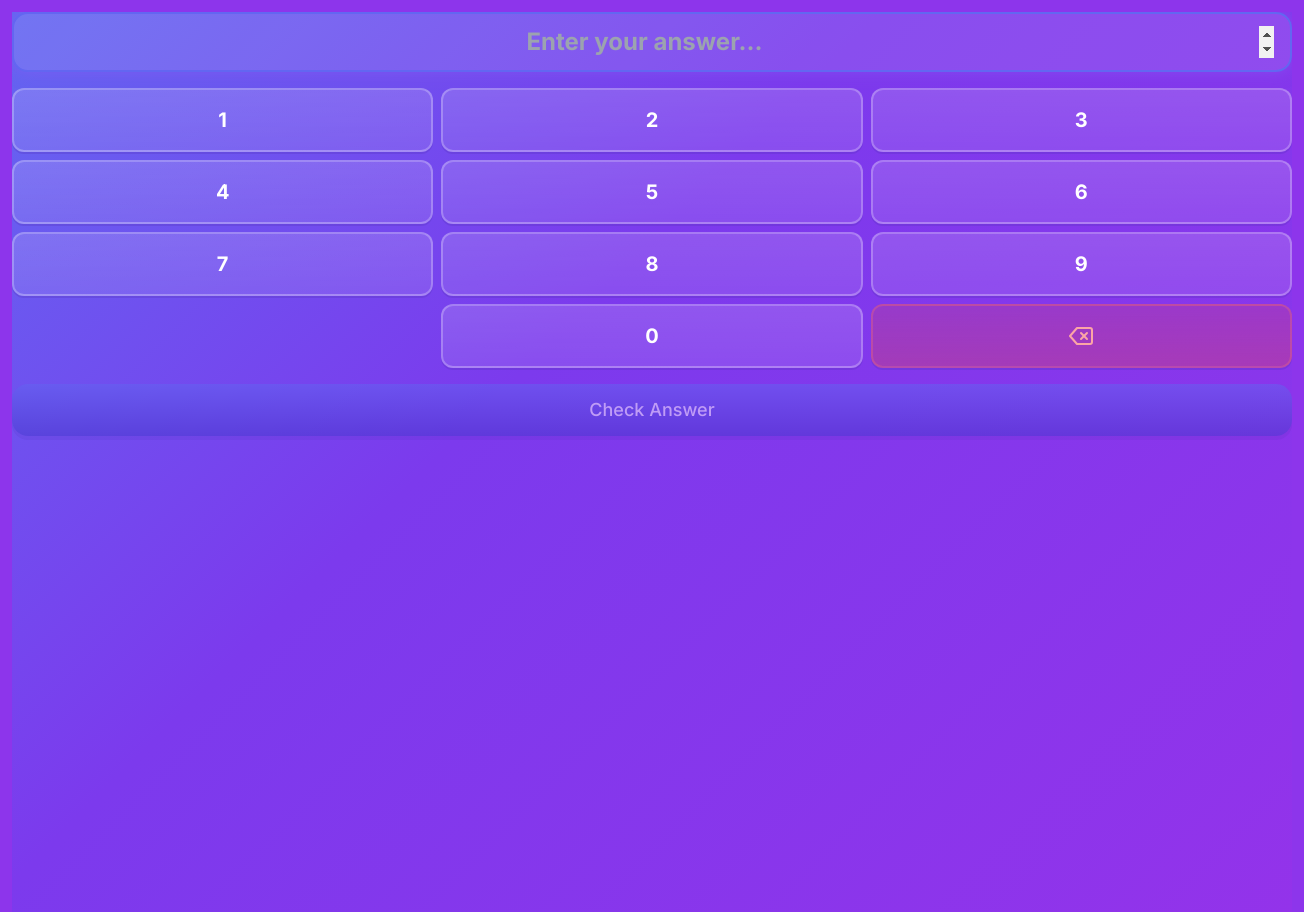
Scenario: AnswerInput › number pad interaction › should append number when pad button is clicked
Click the button "1": coordinates (223, 120) [12, 88, 433, 152]
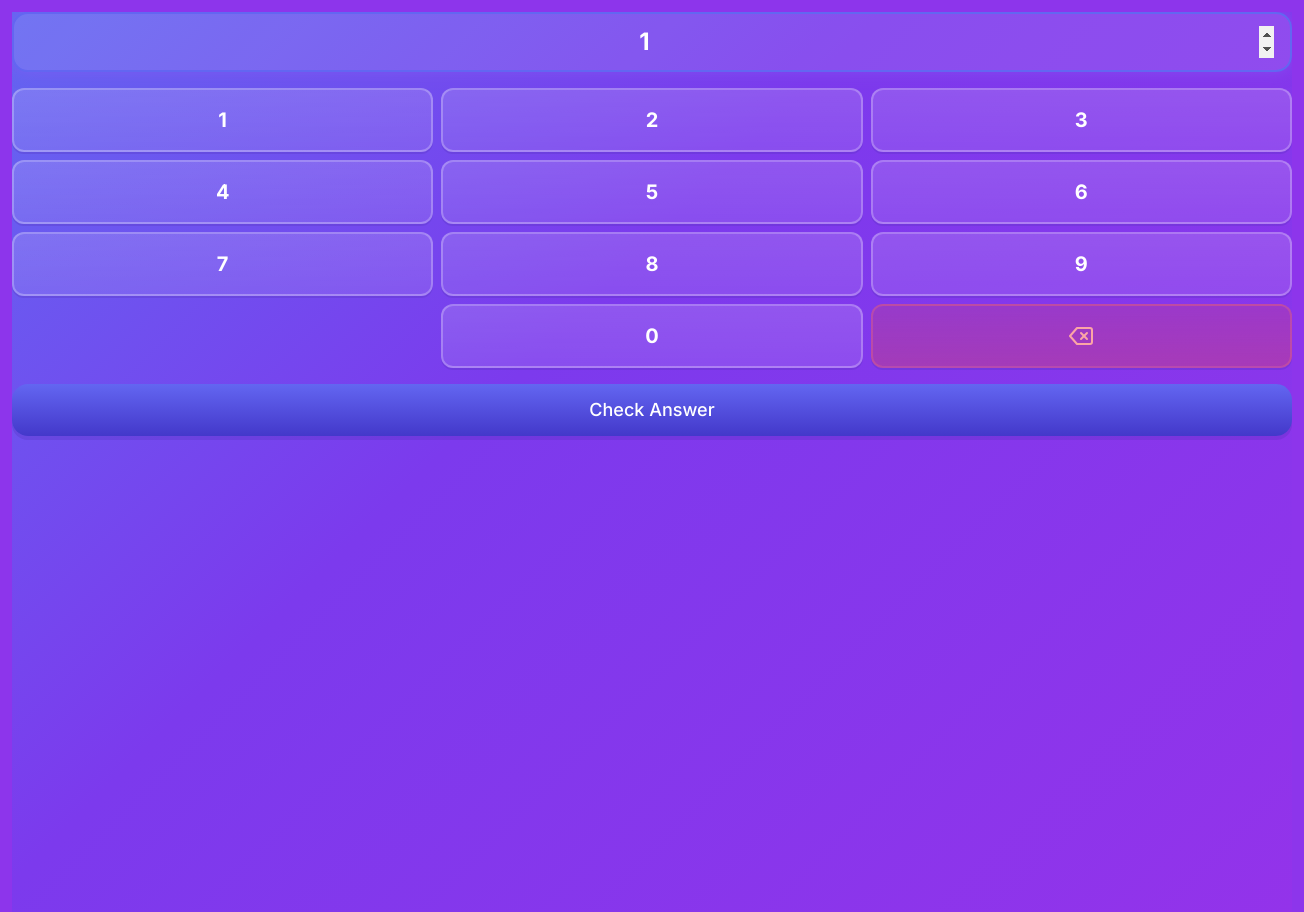
Click the button "5": coordinates (652, 192) [441, 160, 863, 224]
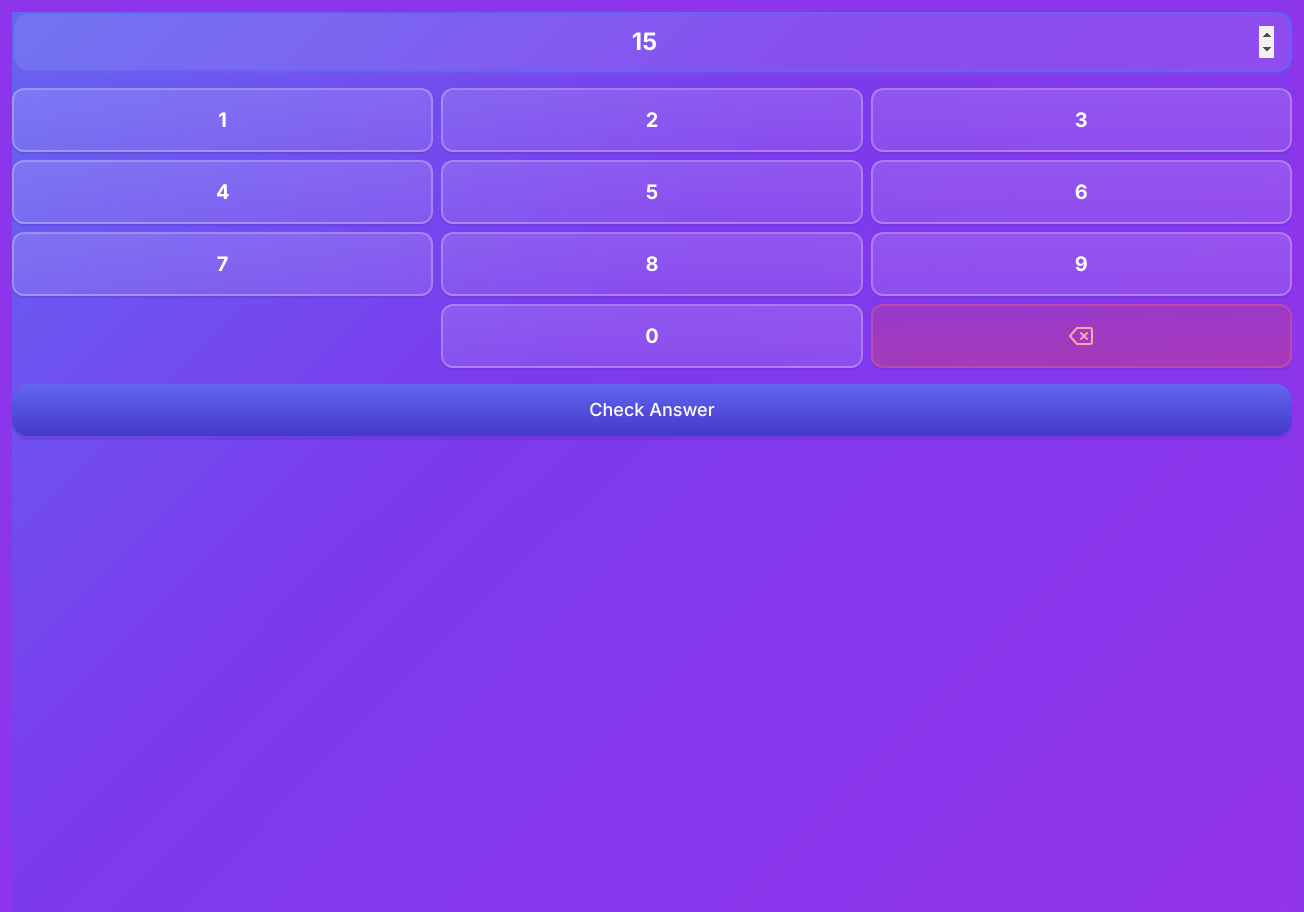
Result: the number field with placeholder "Enter your answer..." holds "15" at [12, 12, 1292, 72]
